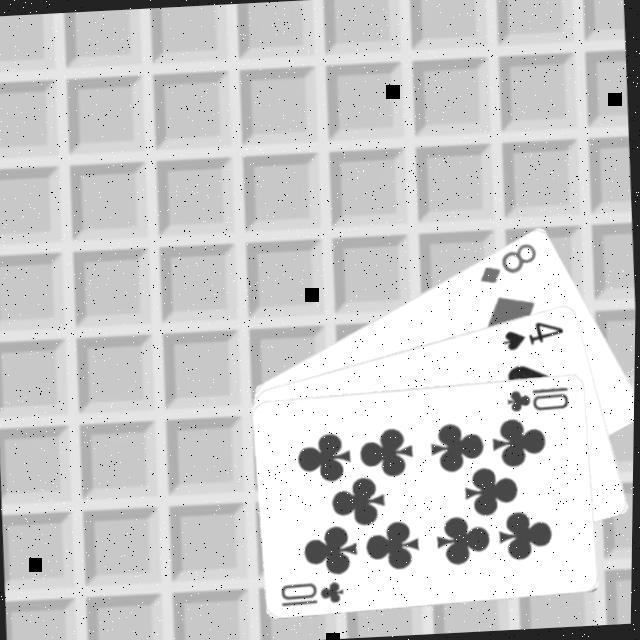10C: (277, 575, 347, 609), (504, 382, 573, 415)
4S: (498, 315, 568, 353)
8D: (474, 238, 541, 287)
